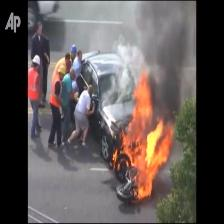fire: (121, 70, 174, 200)
